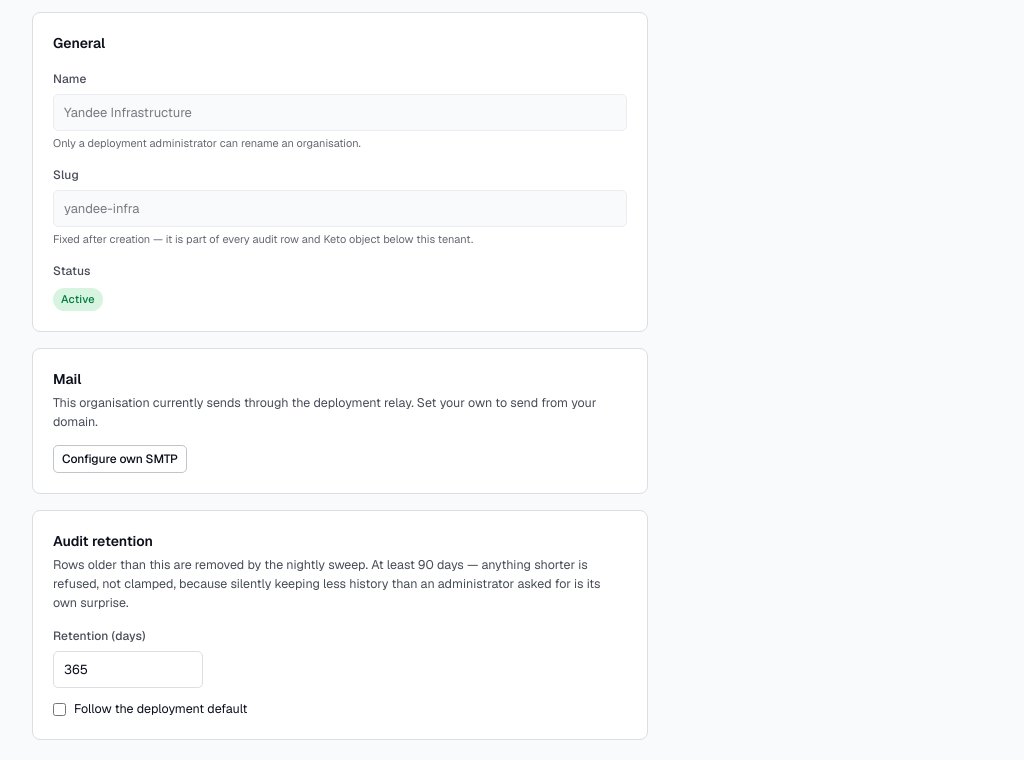
audit retention › confirms a save, and re-reads rather than trusting what was typed
(page scrolled)
Replace the text in the number field labelled "Retention (days)" with "120" at (128, 669), box top-left (53, 651), bottom-right (203, 688)
(page scrolled)
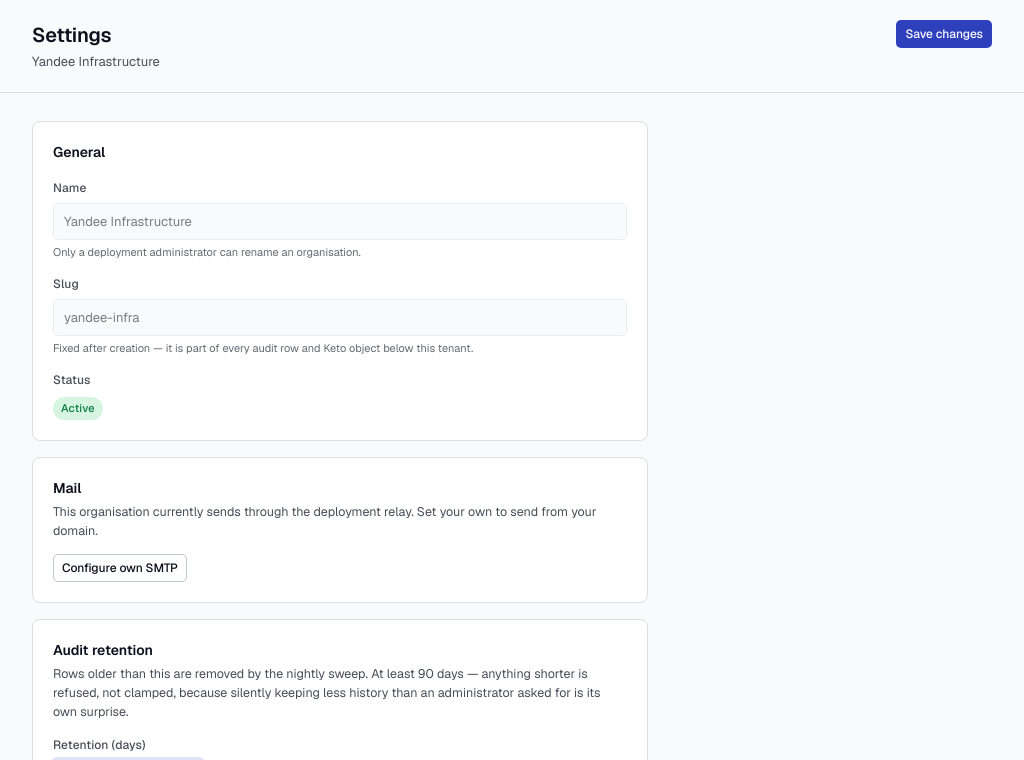
Click the button "Save changes".
click(944, 34)  # box top-left (896, 20), bottom-right (992, 48)
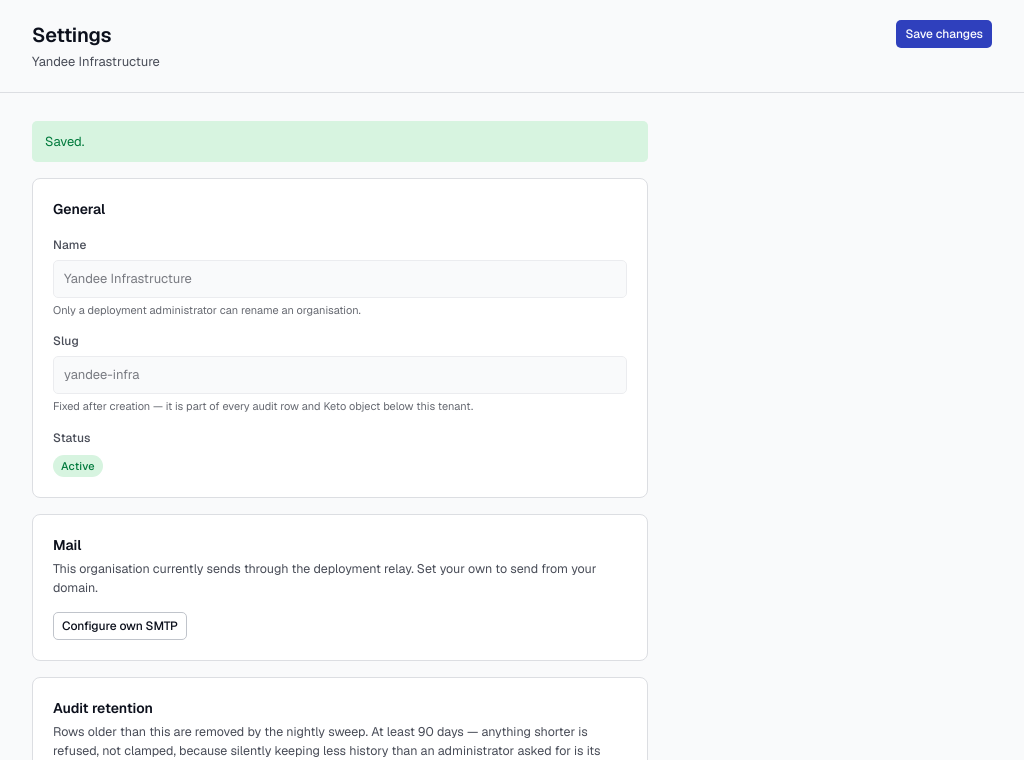
Now the text "Saved." is shown, box top-left (32, 120), bottom-right (648, 162)
